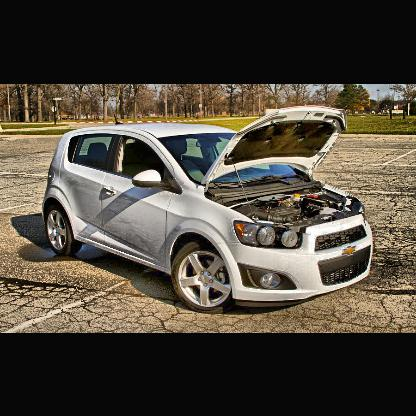Chevrolet Sonic Sedan 2012: (43, 106, 374, 314)
